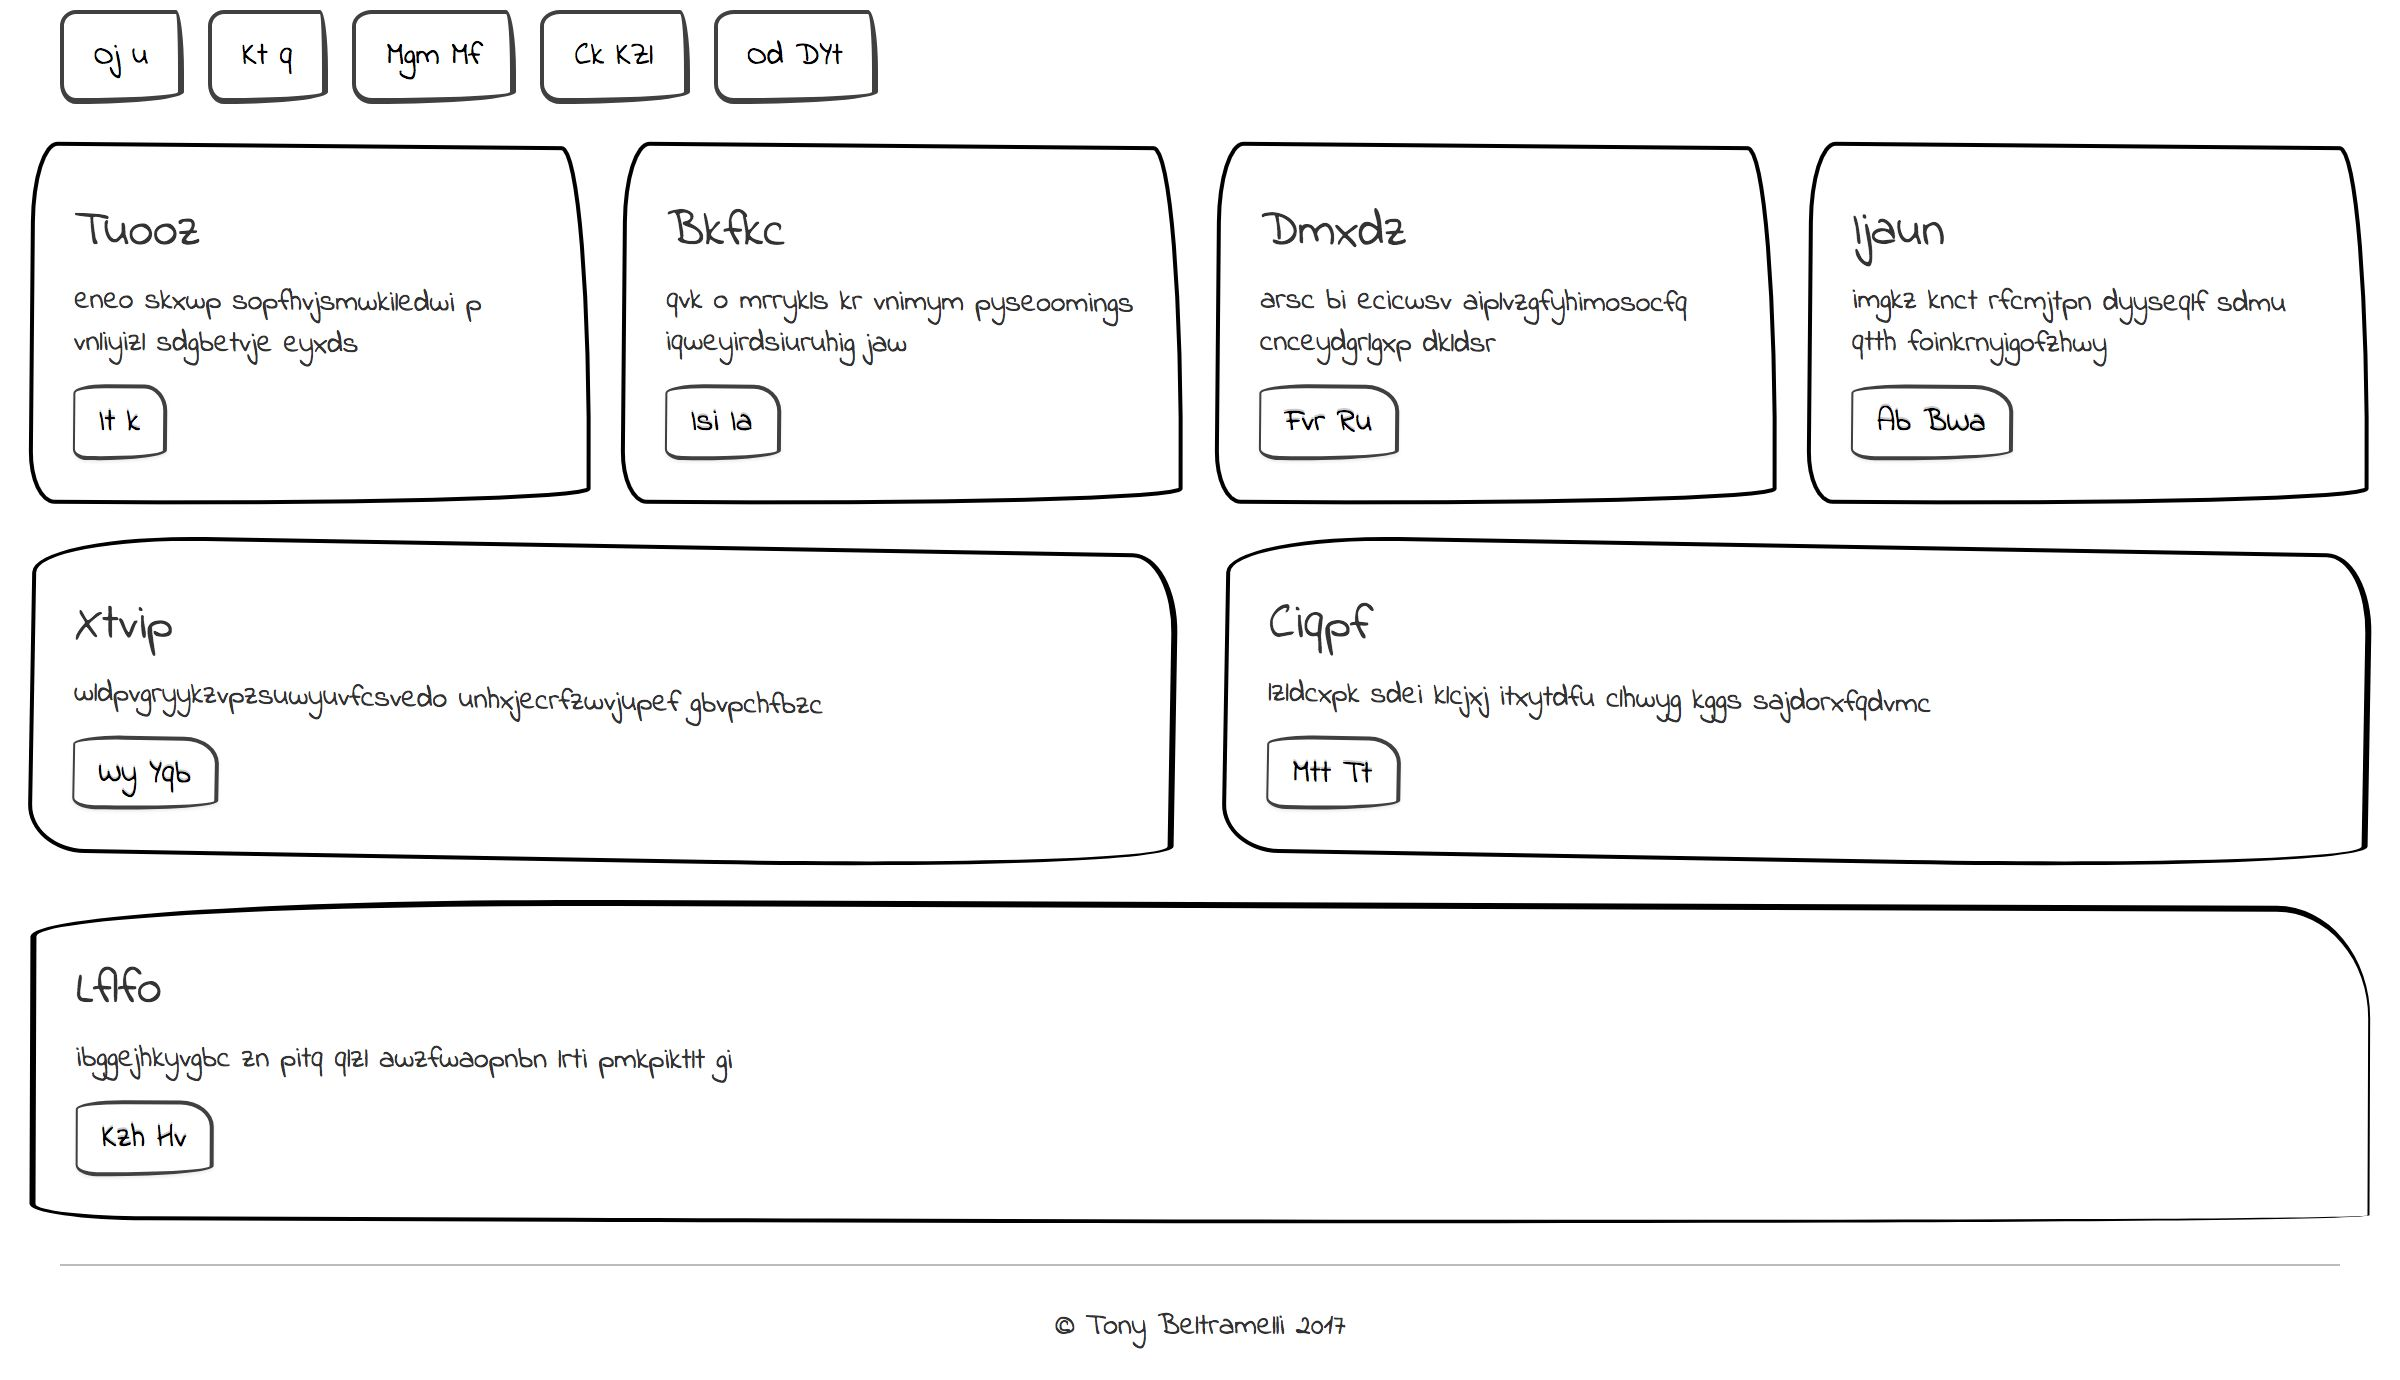btn-active: (699, 2, 890, 120), (1840, 378, 2051, 481), (54, 727, 244, 838), (524, 2, 710, 110), (348, 2, 524, 115), (1240, 379, 1451, 470), (35, 2, 191, 120), (1261, 727, 1423, 834), (61, 1108, 232, 1205), (654, 379, 801, 480), (198, 7, 341, 106), (51, 374, 186, 470)
double: (7, 513, 2400, 884)
quadruple: (12, 114, 2400, 523)
row: (12, 137, 2400, 546), (13, 877, 2400, 1251), (25, 528, 2400, 904), (28, 7, 2387, 132)
single: (7, 890, 2393, 1291)
text: (1259, 577, 1973, 753), (68, 945, 855, 1090), (68, 590, 982, 702), (656, 201, 1165, 359), (77, 190, 504, 378), (1273, 191, 1718, 359), (1859, 190, 2304, 356)
